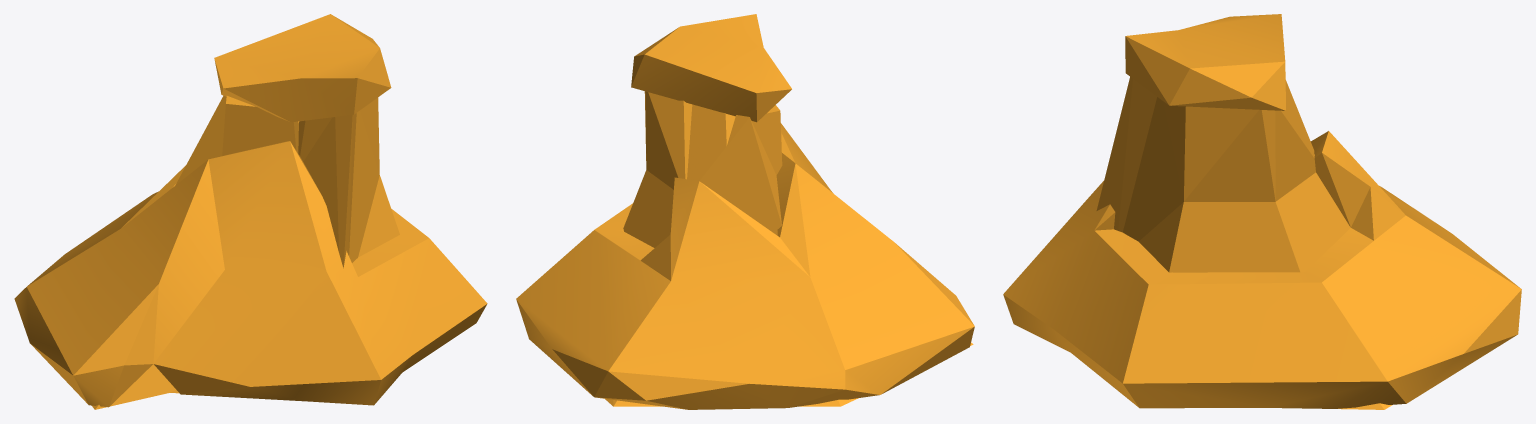
File: SM_Tree_Spruce_Stump_A_Snow.fbx
3 views of the same model, side by side, from view 1: azimuth 30°, elevation 25°; view 2: azimuth 150°, elevation 25°; view 3: azimuth 270°, elevation 25° (orthographic). The views are drawn at different scales.
Visible parts, largest first — view 1: tree-spruce-stump-a-snow; view 2: tree-spruce-stump-a-snow; view 3: tree-spruce-stump-a-snow.
Part boxes in pixels (<box>): tree-spruce-stump-a-snow: <box>14,14,487,409</box>; tree-spruce-stump-a-snow: <box>516,14,974,409</box>; tree-spruce-stump-a-snow: <box>1003,14,1521,409</box>.
Size of the model in its own units: 1.36 by 0.9236 by 1.41.
